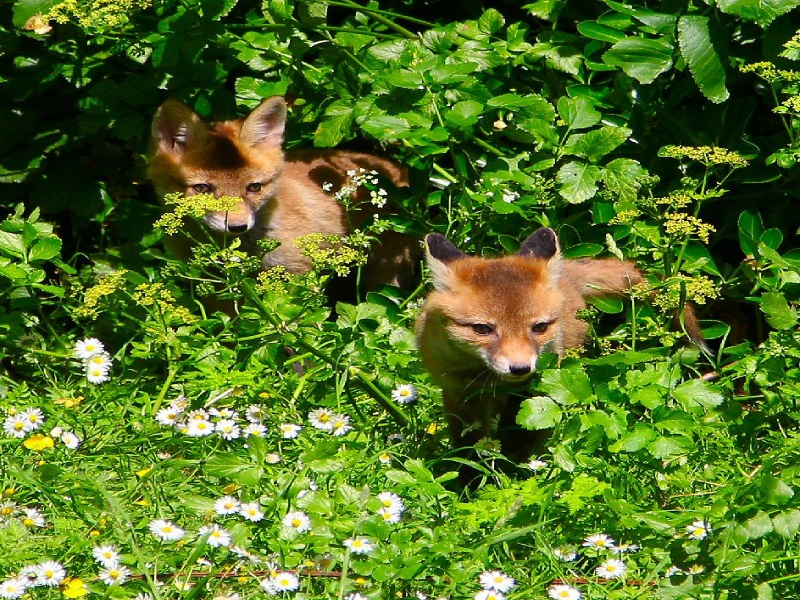fox: (405, 223, 713, 494), (150, 98, 429, 334)
